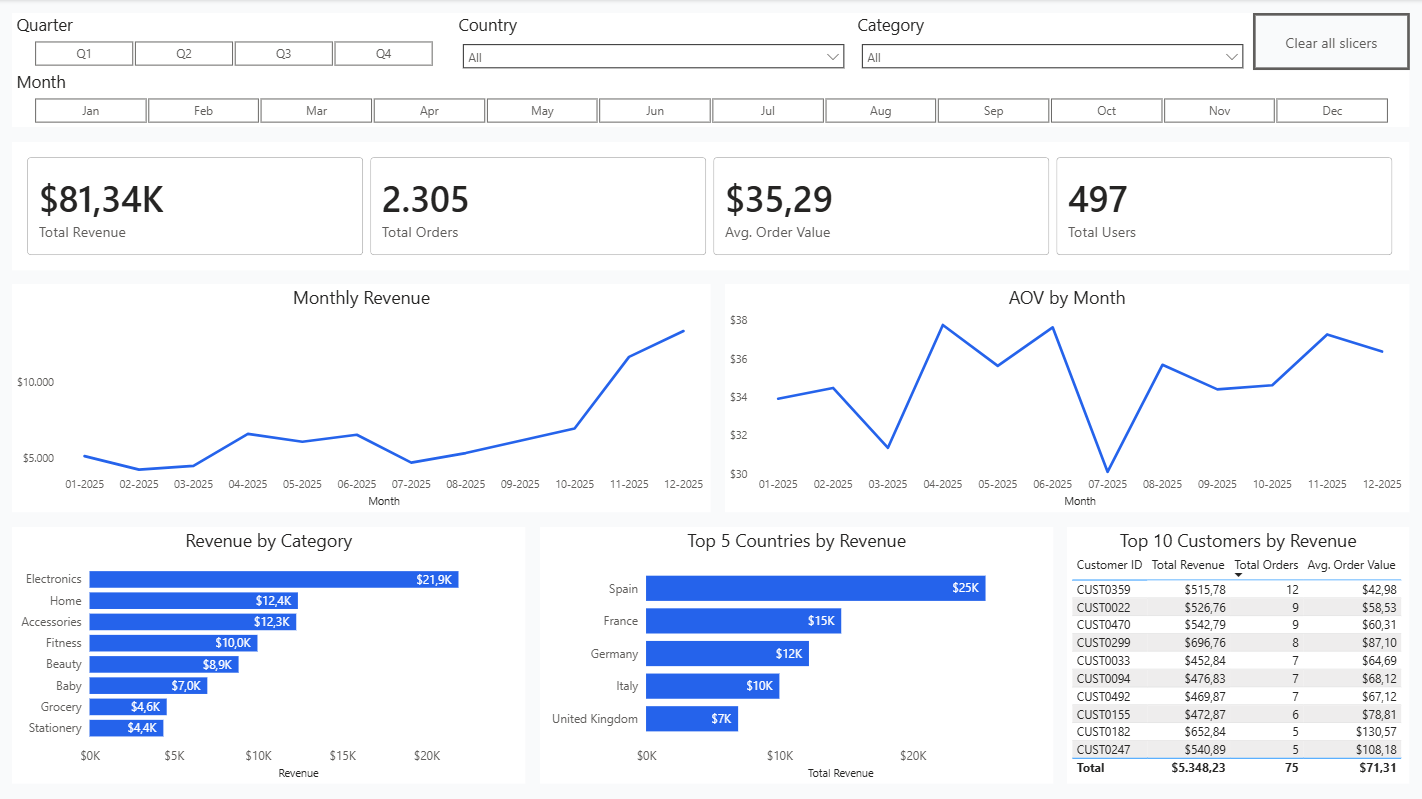

This screenshot's page, from the dashboard's own definition file:
{"tool":"powerbi","page":{"name":"Page 1","canvas":[1600,900],"ordinal":0},"visuals":[{"type":"cardVisual","fields":{"Data":["measures_table.Total Revenue","measures_table.Total Orders","measures_table.Avg. Order Value","measures_table.Total Users"]},"box":[16,160,1568,144],"z":0},{"type":"lineChart","title":"Monthly Revenue","fields":{"Y":["measures_table.Total Revenue"],"Category":["date_table.month_year"]},"box":[16,320,784,256],"z":1000},{"type":"lineChart","title":"AOV by Month","fields":{"Y":["measures_table.Avg. Order Value"],"Category":["date_table.month_year"]},"box":[816,320,768,256],"z":2000},{"type":"clusteredBarChart","title":"Revenue by Category","fields":{"Category":["merged_data.category"],"Y":["measures_table.Total Revenue"]},"box":[16,592,576,288],"z":3000},{"type":"clusteredBarChart","title":"Top 5 Countries by Revenue","fields":{"Category":["merged_data.country"],"Y":["measures_table.Total Revenue"]},"box":[608,592,576,288],"z":4000},{"type":"tableEx","title":"Top 10 Customers by Revenue","fields":{"Values":["merged_data.customer_id","measures_table.Total Revenue","measures_table.Total Orders","measures_table.Avg. Order Value"]},"box":[1200,592,384,288],"z":5000},{"type":"slicer","title":"Month","fields":{"Values":["date_table.month_name"]},"box":[16,80,1568,64],"z":6000},{"type":"slicer","title":"Quarter","fields":{"Values":["date_table.quarter"]},"box":[16,16,496,64],"z":7000},{"type":"slicer","title":"Category","fields":{"Values":["merged_data.category"]},"box":[960,16,448,64],"z":8000},{"type":"slicer","title":"Country","fields":{"Values":["merged_data.country"]},"box":[512,16,448,64],"z":9000},{"type":"actionButton","box":[1408,16,176,64],"z":10000}]}

Visuals, with their boxes in screenshot pixels (x1, y1, x2, y2), scaled from the page's 1600x900 canvas onto the 1422x799 screenshot:
cardVisual - measures_table.Total Revenue x measures_table.Total Orders: bbox=(14, 142, 1408, 270)
"Monthly Revenue" lineChart: bbox=(14, 284, 711, 511)
"AOV by Month" lineChart: bbox=(725, 284, 1408, 511)
"Revenue by Category" clusteredBarChart: bbox=(14, 526, 526, 781)
"Top 5 Countries by Revenue" clusteredBarChart: bbox=(540, 526, 1052, 781)
"Top 10 Customers by Revenue" tableEx: bbox=(1066, 526, 1408, 781)
"Month" slicer: bbox=(14, 71, 1408, 128)
"Quarter" slicer: bbox=(14, 14, 455, 71)
"Category" slicer: bbox=(853, 14, 1251, 71)
"Country" slicer: bbox=(455, 14, 853, 71)
actionButton: bbox=(1251, 14, 1408, 71)
